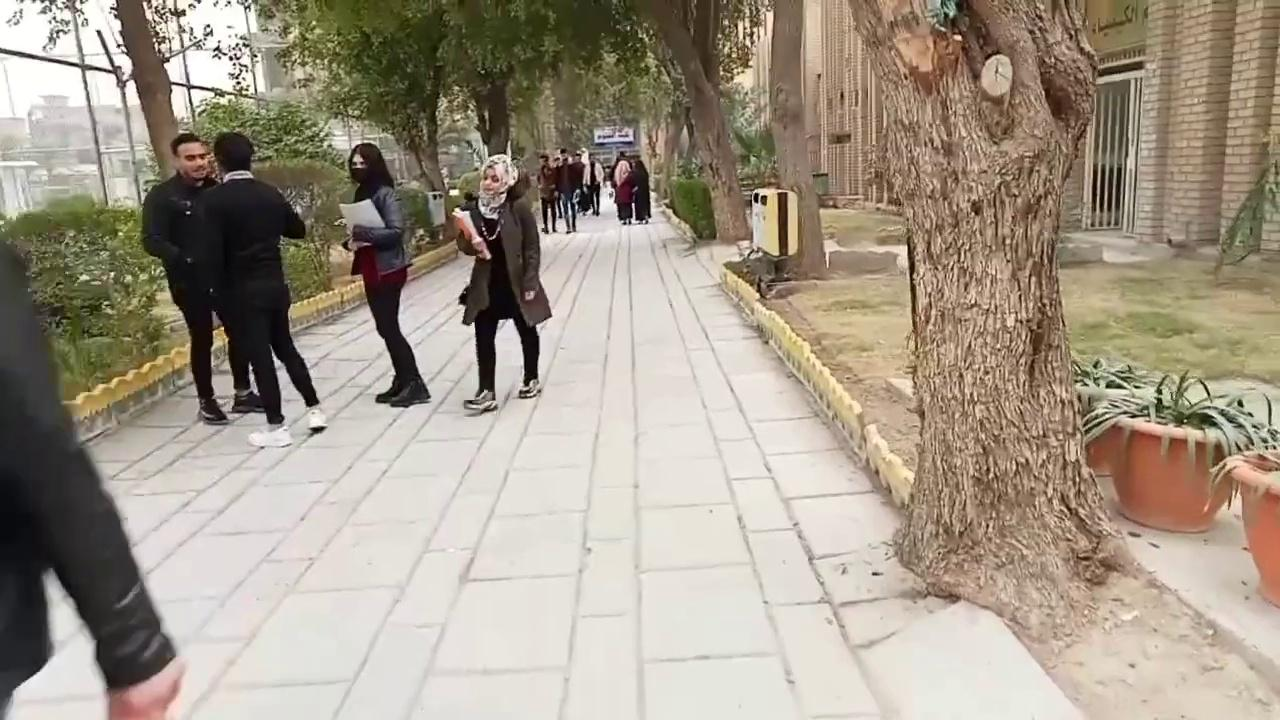person: (0, 235, 187, 719), (193, 131, 327, 448), (140, 132, 264, 424), (451, 153, 552, 412), (338, 142, 431, 405)
tree: (842, 0, 1140, 654), (434, 0, 754, 242), (267, 0, 484, 224), (1073, 360, 1275, 533), (190, 92, 351, 300), (108, 0, 257, 185), (3, 0, 109, 207), (441, 0, 564, 167), (766, 0, 828, 278), (108, 0, 183, 184), (1211, 446, 1279, 607)
